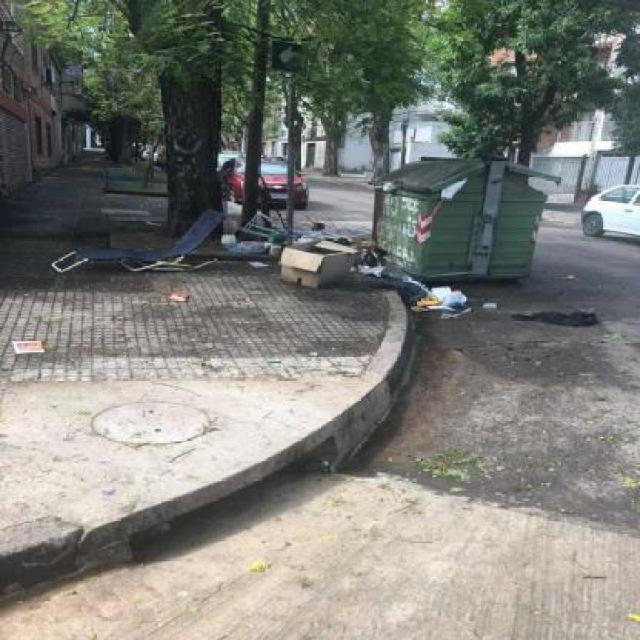garbage: (219, 208, 410, 286), (48, 208, 220, 272), (412, 283, 498, 320), (509, 311, 606, 331), (372, 177, 456, 197), (8, 334, 52, 357), (165, 285, 196, 304)
